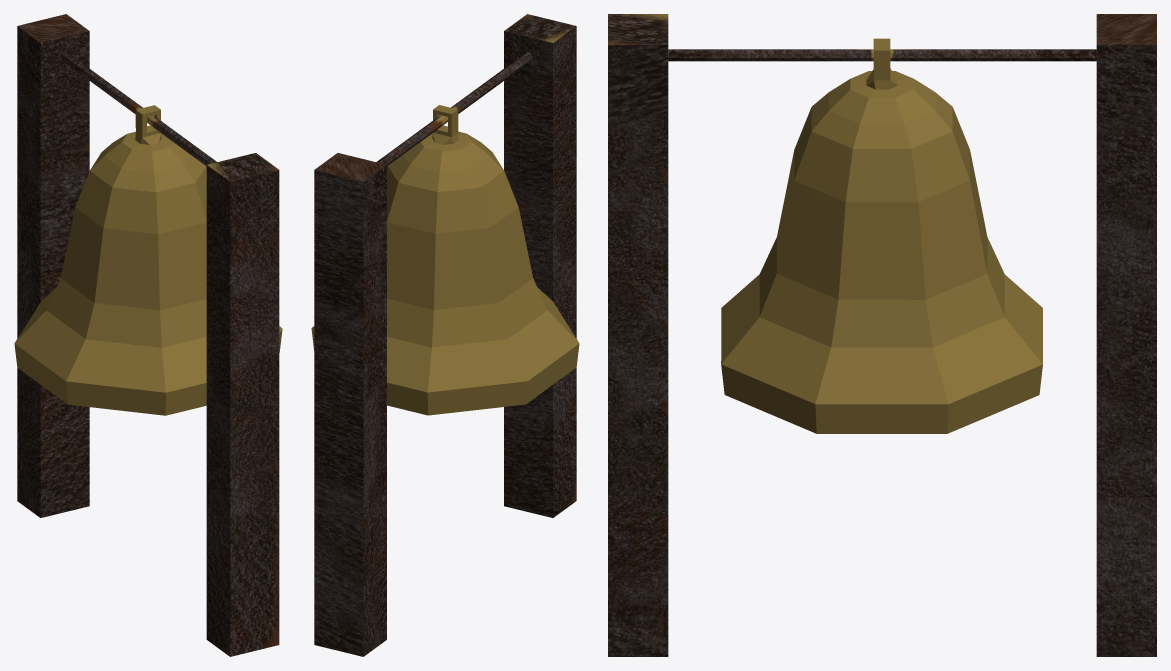
File: bell.glb
3 views of the same model, side by side, from view 1: azimuth 30°, elevation 25°; view 2: azimuth 150°, elevation 25°; view 3: azimuth 270°, elevation 25° (orthographic). The views are drawn at different scales.
Visible parts, largest first — view 1: Bell; view 2: Bell; view 3: Bell.
Part boxes in pixels (x1,y1,x2,y2): Bell: [14, 14, 282, 656]; Bell: [311, 14, 579, 656]; Bell: [608, 14, 1156, 656].
Bounding box in the file's own units: 0.8322 × 1.75 × 1.42.
1 material, 1 textured.
